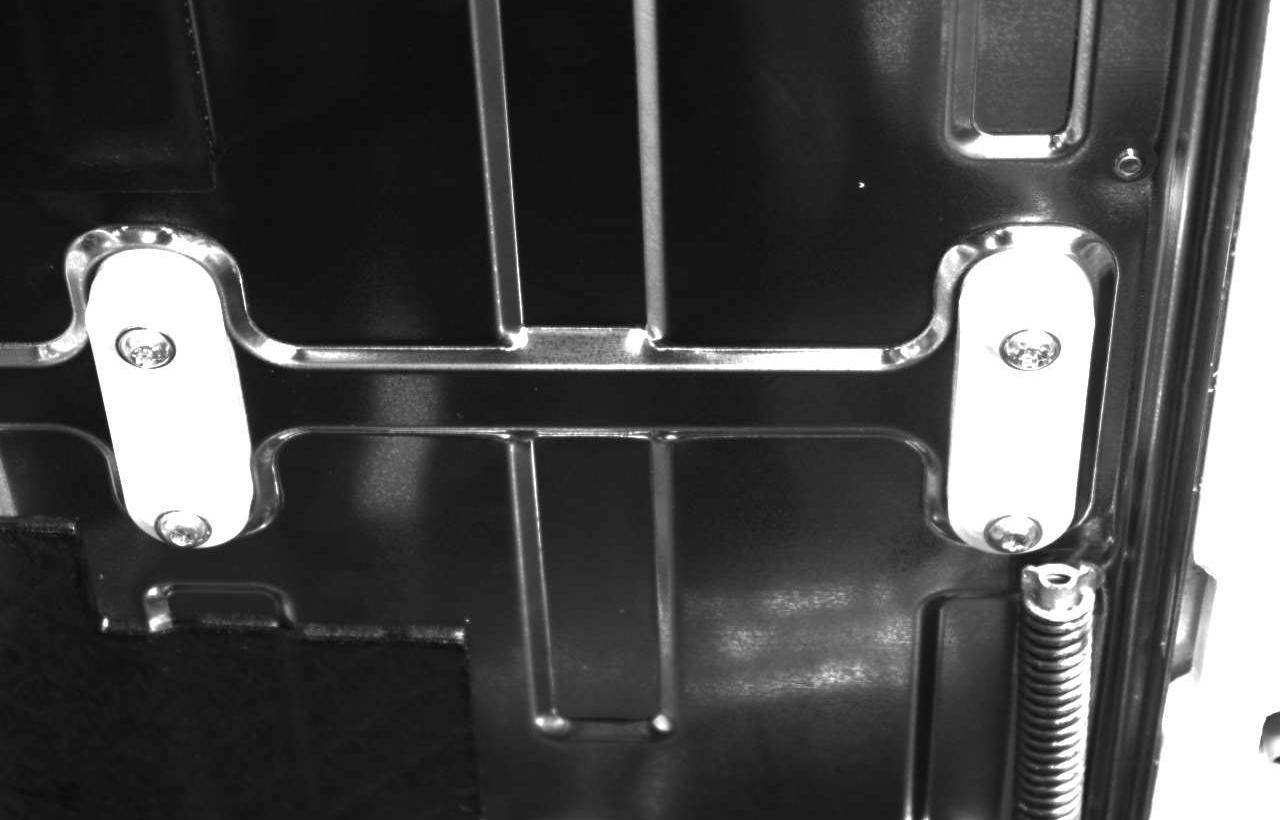vida-ok: (107, 311, 194, 388), (982, 311, 1070, 384), (140, 499, 221, 563), (965, 495, 1040, 553)
